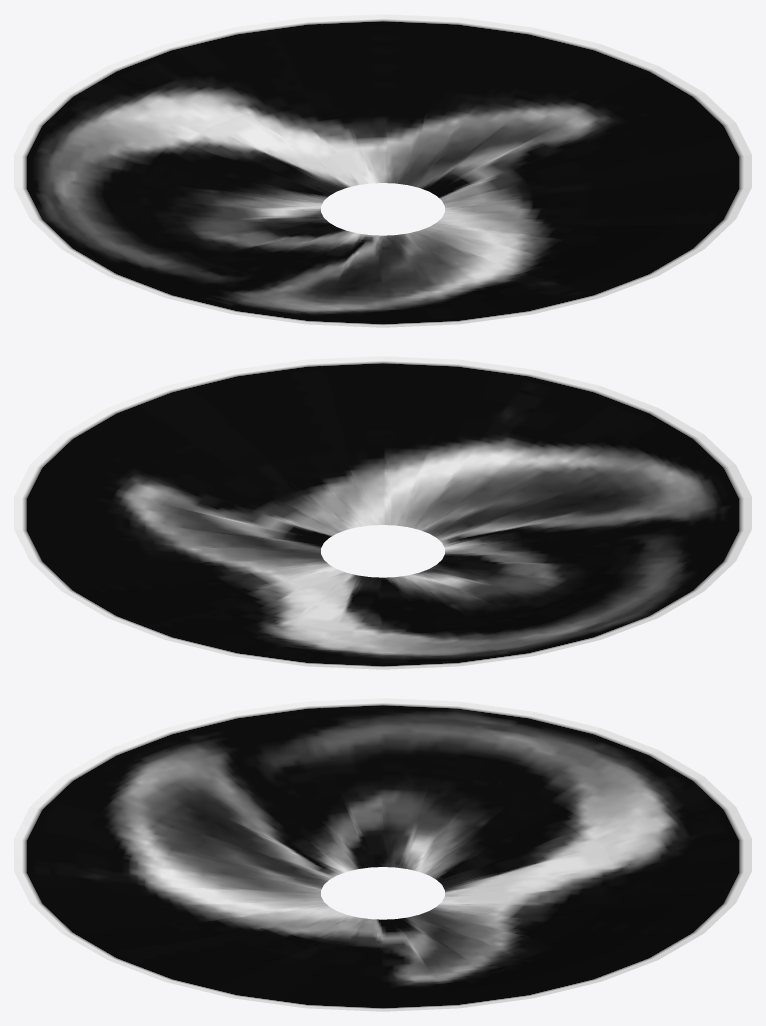
Rendered from 011_Eida@Spell1_Impact.fbx.
The picture shows the model from 3 angles, top to bottom: view 1: azimuth 30°, elevation 25°; view 2: azimuth 150°, elevation 25°; view 3: azimuth 270°, elevation 25°; orthographic projection.
Visible parts, largest first — view 1: Circle; view 2: Circle; view 3: Circle.
Boxes of the visible parts, x1,y1,x2,y2 form: Circle: [14, 14, 751, 327]; Circle: [14, 356, 751, 669]; Circle: [14, 698, 751, 1011].
Bounding box in the file's own units: 4.01 × 0.2284 × 3.99.
1 material, 1 textured.
